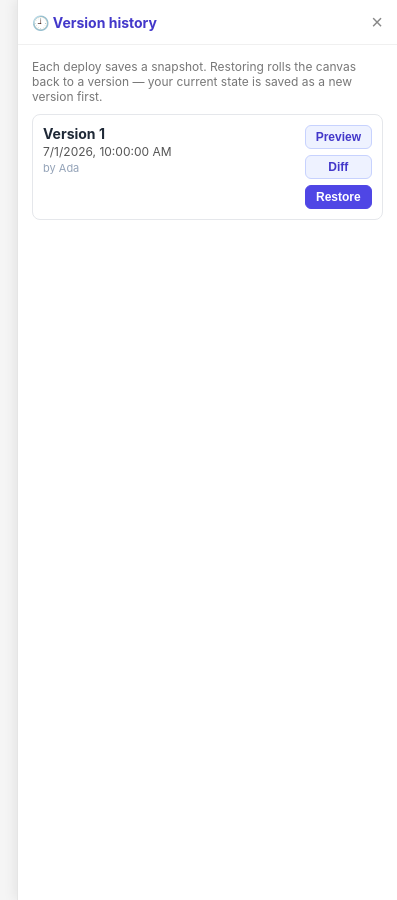
HistoryPanel diff view › diffs a version against the live canvas
The width and height of the screenshot is (397, 900).
Click the button "Diff": point(338, 167) [305,155,372,179]
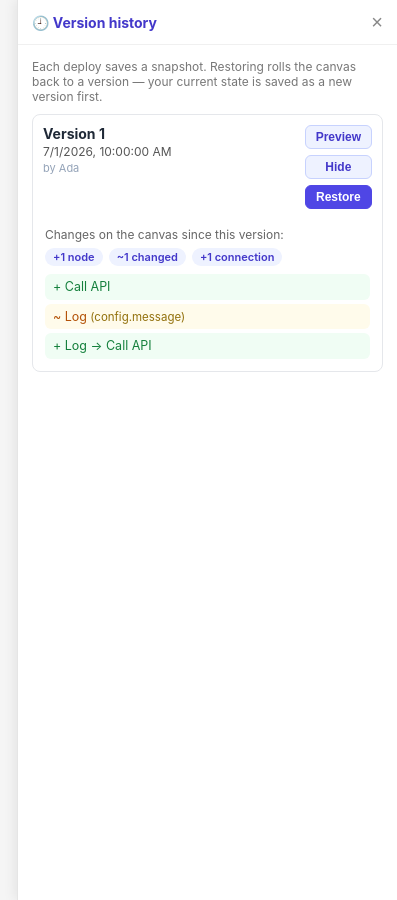
Now the text "Changes on the canvas since this version:" is shown, box [45,227,284,242]
Now the text "+1 node" is shown, box [45,248,103,266]
Now the text "~1 changed" is shown, box [109,248,186,266]
